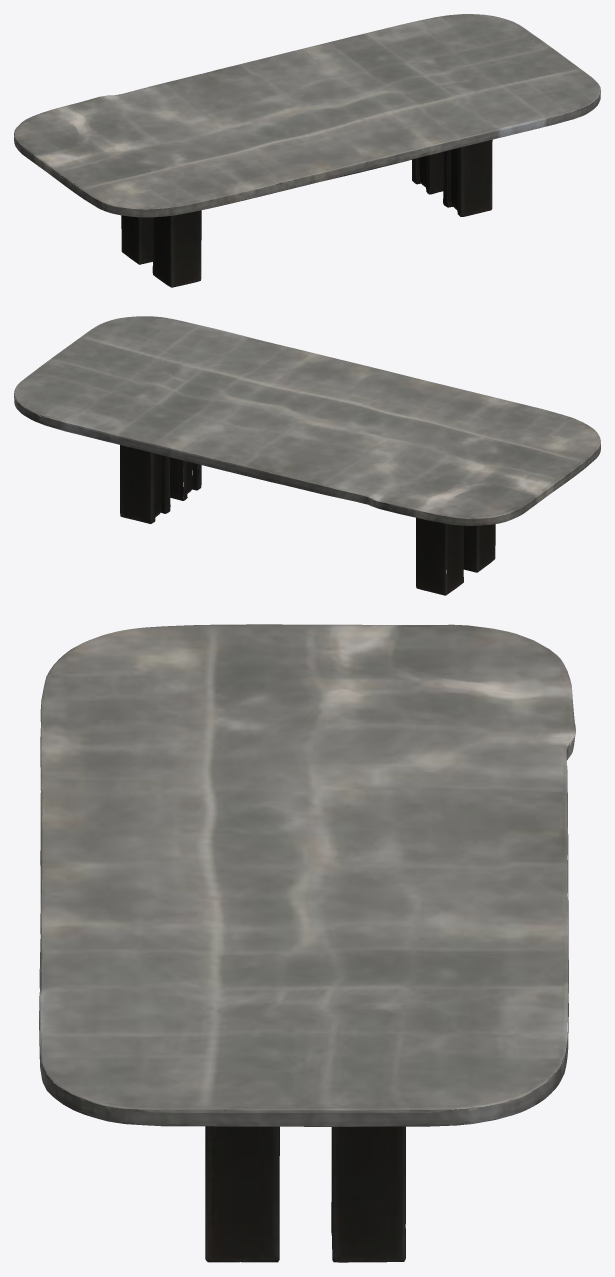
File: d-table.glb
The picture shows the model from 3 angles, top to bottom: view 1: azimuth 30°, elevation 25°; view 2: azimuth 150°, elevation 25°; view 3: azimuth 270°, elevation 25°; orthographic projection. The views are drawn at different scales.
Parts seen in each view (by area): view 1: geometry_0; view 2: geometry_0; view 3: geometry_0.
Boxes of the visible parts, x1=… form: geometry_0: x1=14, y1=14, x2=600, y2=287; geometry_0: x1=14, y1=316, x2=600, y2=595; geometry_0: x1=39, y1=624, x2=575, y2=1262.
Bounding box in the file's own units: 1 × 0.2308 × 0.4664.
Materials: 1 (1 with a texture image).
